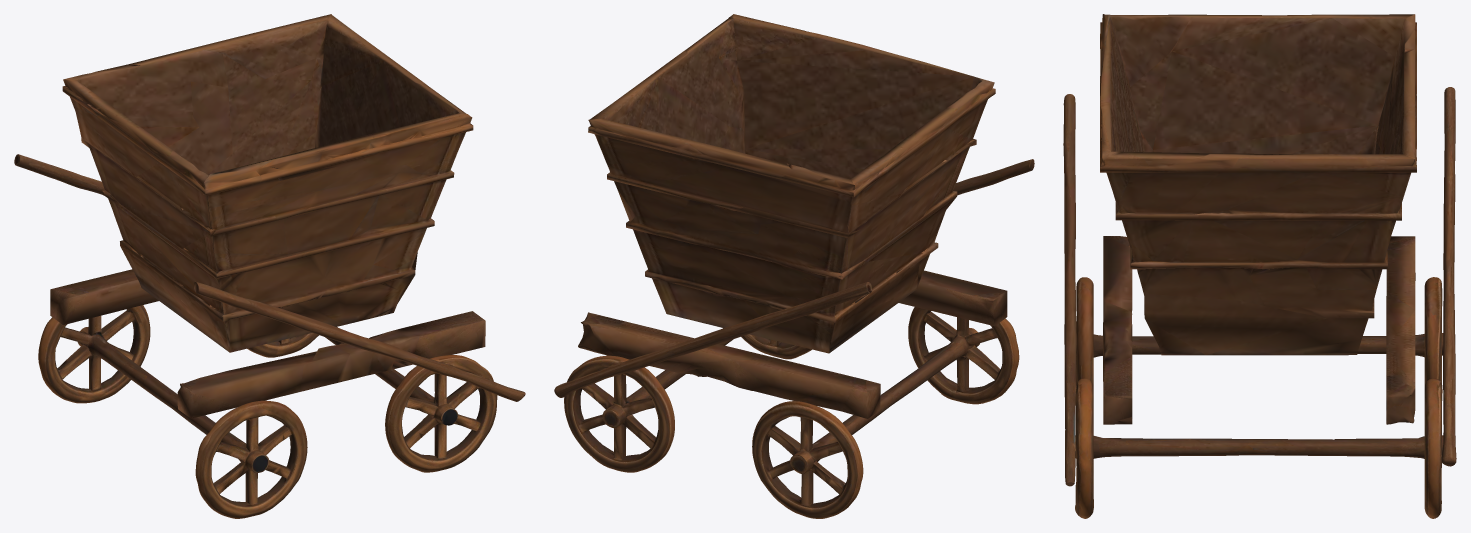
The model's file is chaldron.glb.
3 views of the same model, side by side, from view 1: azimuth 30°, elevation 25°; view 2: azimuth 150°, elevation 25°; view 3: azimuth 270°, elevation 25° (orthographic). The views are drawn at different scales.
Size of the model in its own units: 2 by 1.94 by 1.82.
1 material, 1 textured.
